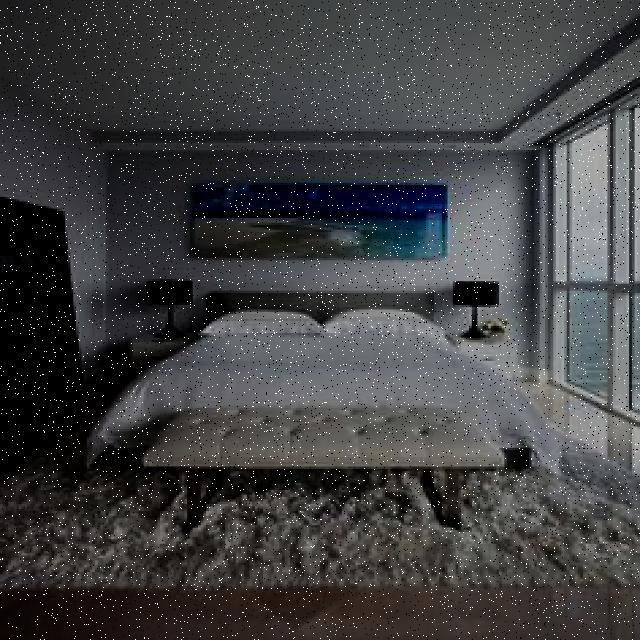bed: (117, 285, 528, 412)
